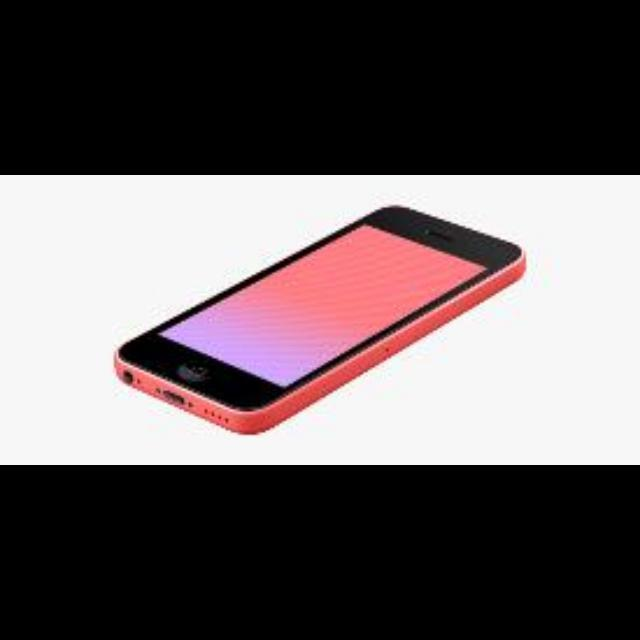PhoneUse: (113, 205, 529, 428)
